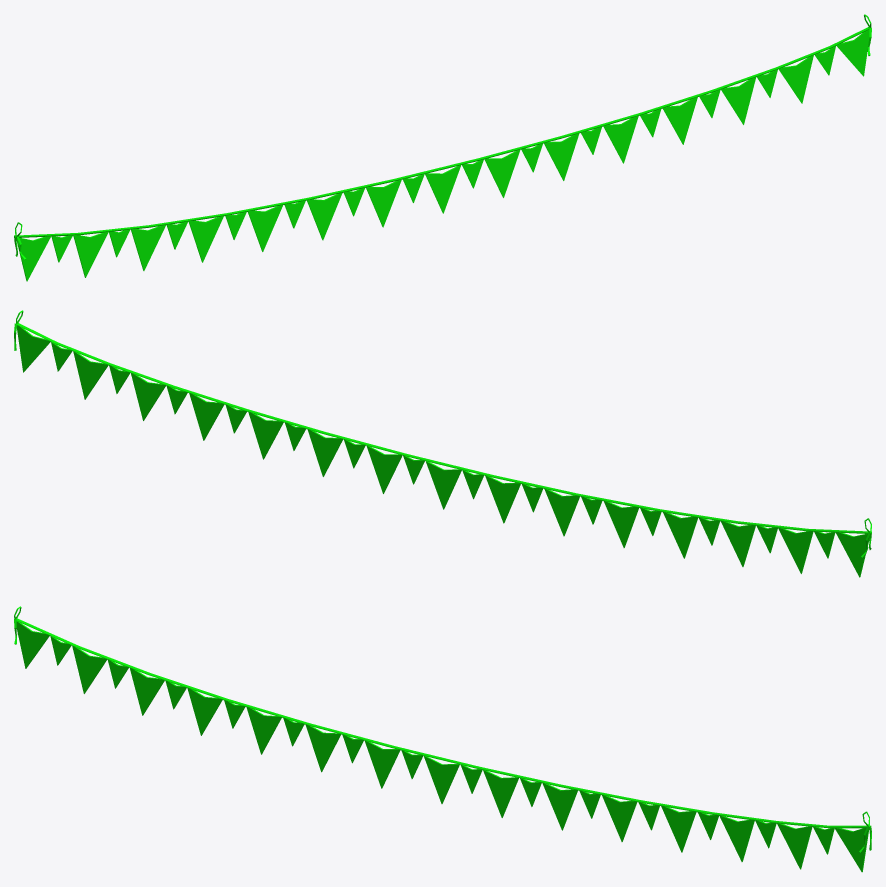
Rendered from SM_Garland_Triangles_5m_Fantasy.fbx.
The picture shows the model from 3 angles, top to bottom: view 1: azimuth 30°, elevation 25°; view 2: azimuth 150°, elevation 25°; view 3: azimuth 330°, elevation 25°; orthographic projection.
Parts seen in each view (by area): view 1: garland-triangles-5m-fantasy; view 2: garland-triangles-5m-fantasy; view 3: garland-triangles-5m-fantasy.
Boxes of the visible parts, box(x1,y1,x2,y2) form: garland-triangles-5m-fantasy: box(14, 14, 871, 281); garland-triangles-5m-fantasy: box(14, 310, 871, 577); garland-triangles-5m-fantasy: box(14, 606, 871, 872).
Bounding box in the file's own units: 5 × 0.5295 × 0.092.
